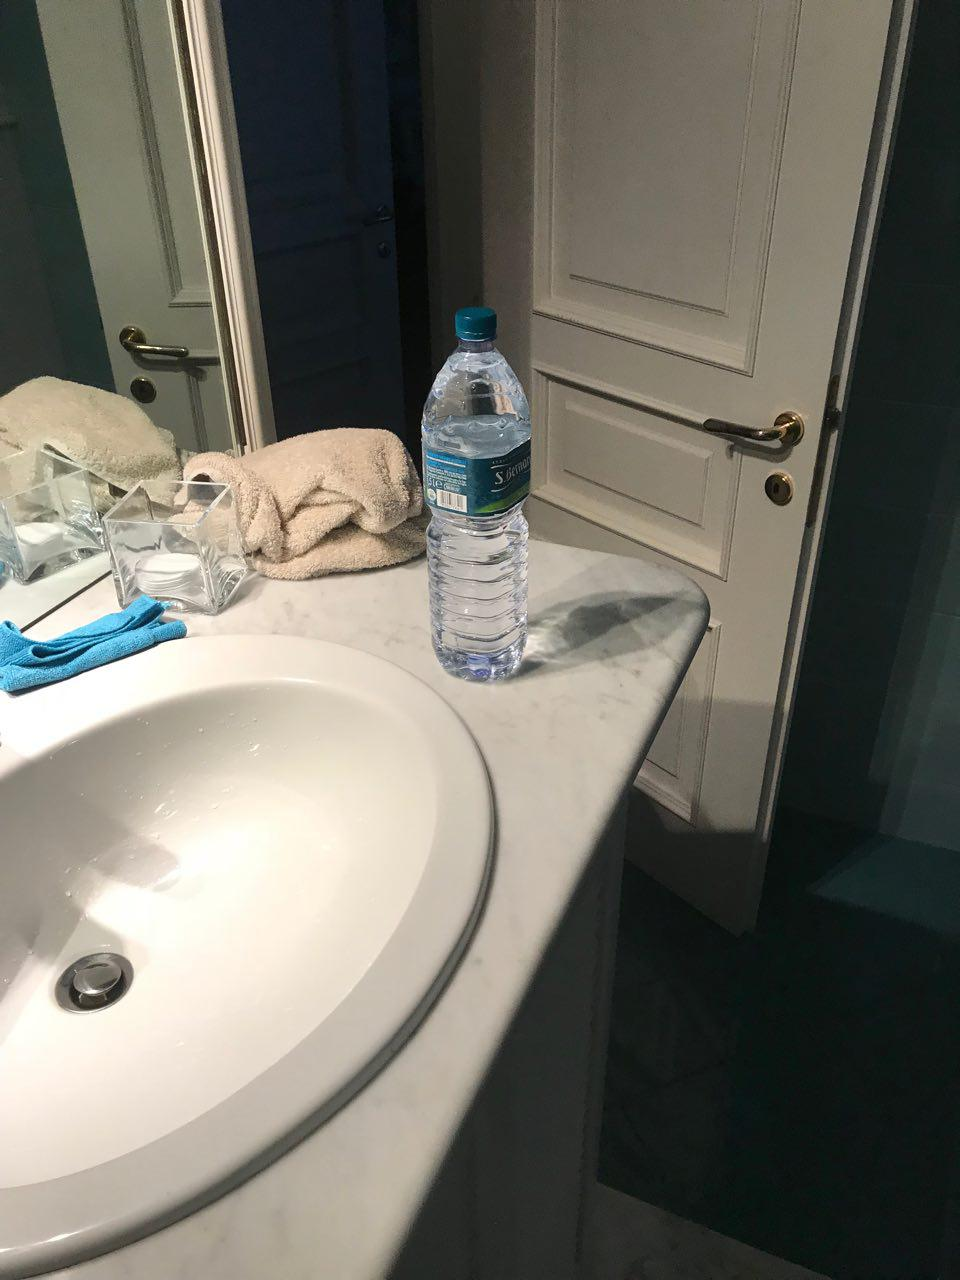san_bernardo: (419, 307, 531, 683)
